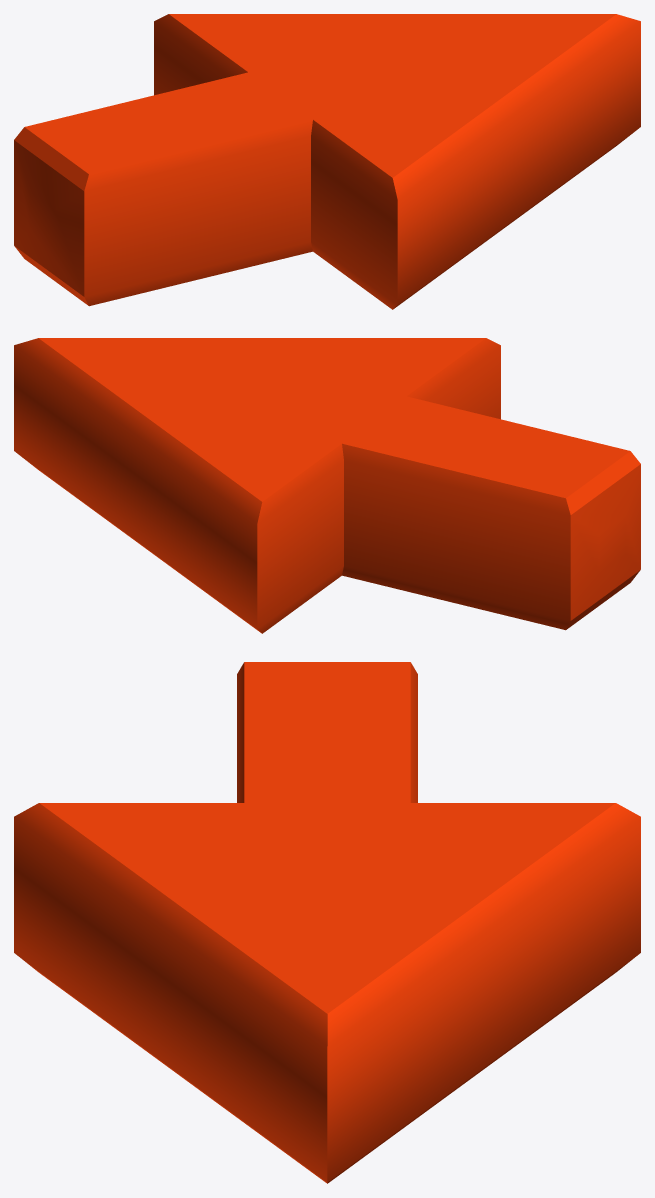
The model's file is ArrowRed.fbx.
3 renders of one model, top to bottom at view 1: azimuth 30°, elevation 25°; view 2: azimuth 150°, elevation 25°; view 3: azimuth 270°, elevation 25°, orthographic. The views are drawn at different scales.
Visible parts, largest first — view 1: Model; view 2: Model; view 3: Model.
Boxes of the visible parts, x1,y1,x2,y2 form: Model: [14, 14, 640, 309]; Model: [14, 338, 640, 633]; Model: [14, 662, 640, 1183].
Bounding box in the file's own units: 246 × 51.79 × 173.
